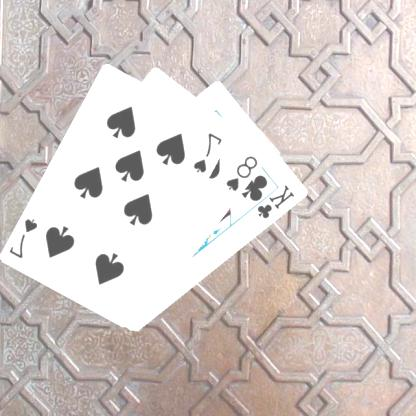7S: (9, 215, 42, 260), (193, 130, 226, 174)
8S: (225, 152, 262, 193)
KC: (248, 182, 298, 220)
